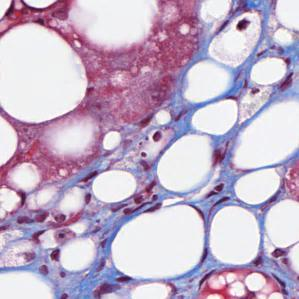inflammation: (16, 208, 87, 249)
